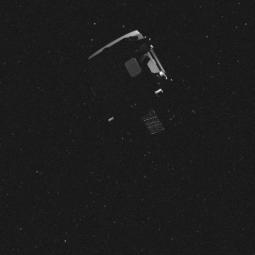proba_3_csc: (66, 23, 200, 145)
